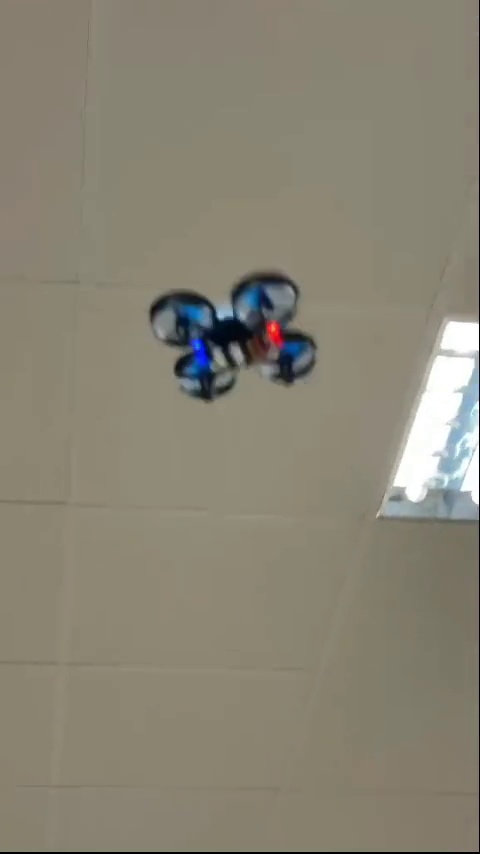drone: (147, 279, 321, 403)
